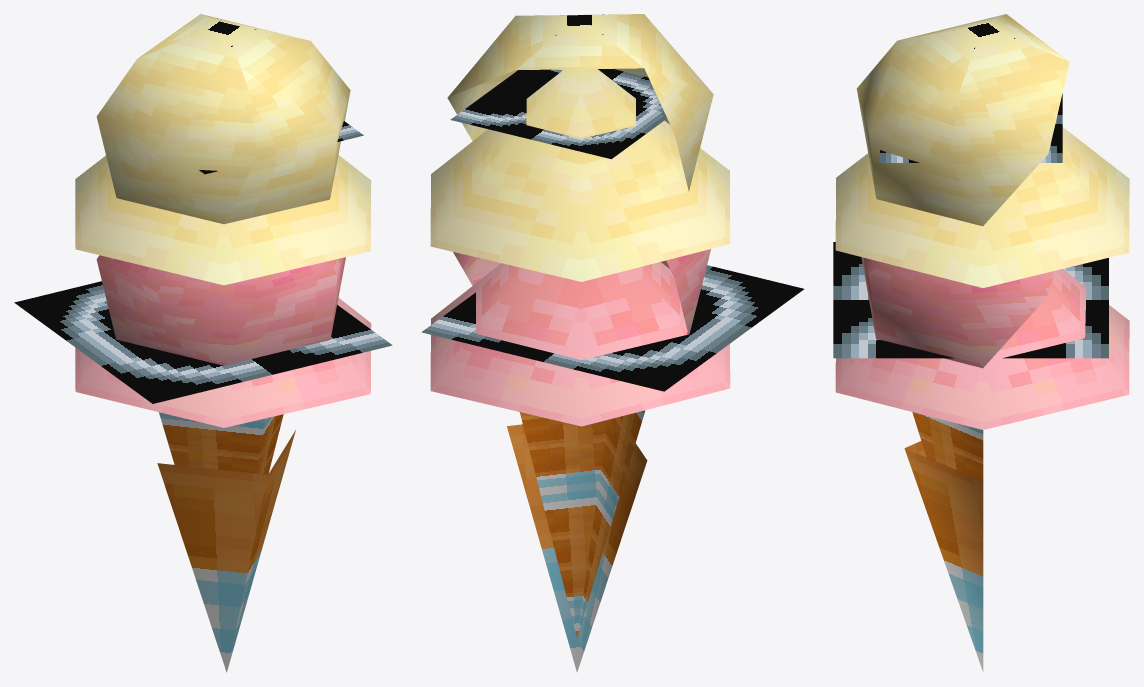
The picture shows the model from 3 angles, left to right: view 1: azimuth 30°, elevation 25°; view 2: azimuth 150°, elevation 25°; view 3: azimuth 270°, elevation 25°; orthographic projection.
Parts seen in each view (by area): view 1: 5602u_ice00_hs; view 2: 5602u_ice00_hs; view 3: 5602u_ice00_hs.
Part boxes in pixels (x1,y1,x2,y2): 5602u_ice00_hs: (14, 14, 392, 672); 5602u_ice00_hs: (421, 14, 803, 672); 5602u_ice00_hs: (833, 14, 1129, 671).
Size of the model in its own units: 0.4375 by 0.9199 by 0.3818.
6 materials, 6 textured.
